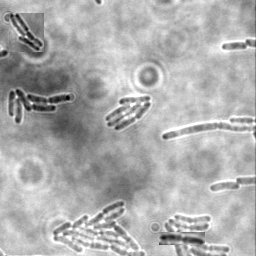Dividing: (161, 123, 255, 142), (159, 232, 205, 245), (221, 41, 248, 52)
Microcolony: (51, 200, 147, 255), (162, 212, 231, 255), (8, 89, 72, 126), (106, 96, 153, 132), (9, 13, 44, 52), (208, 182, 240, 193)
